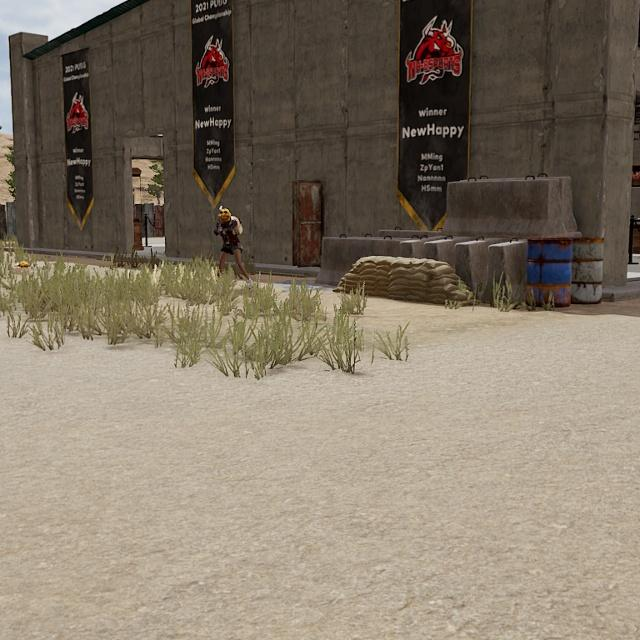head: (216, 206, 233, 223)
people: (214, 205, 253, 286)
